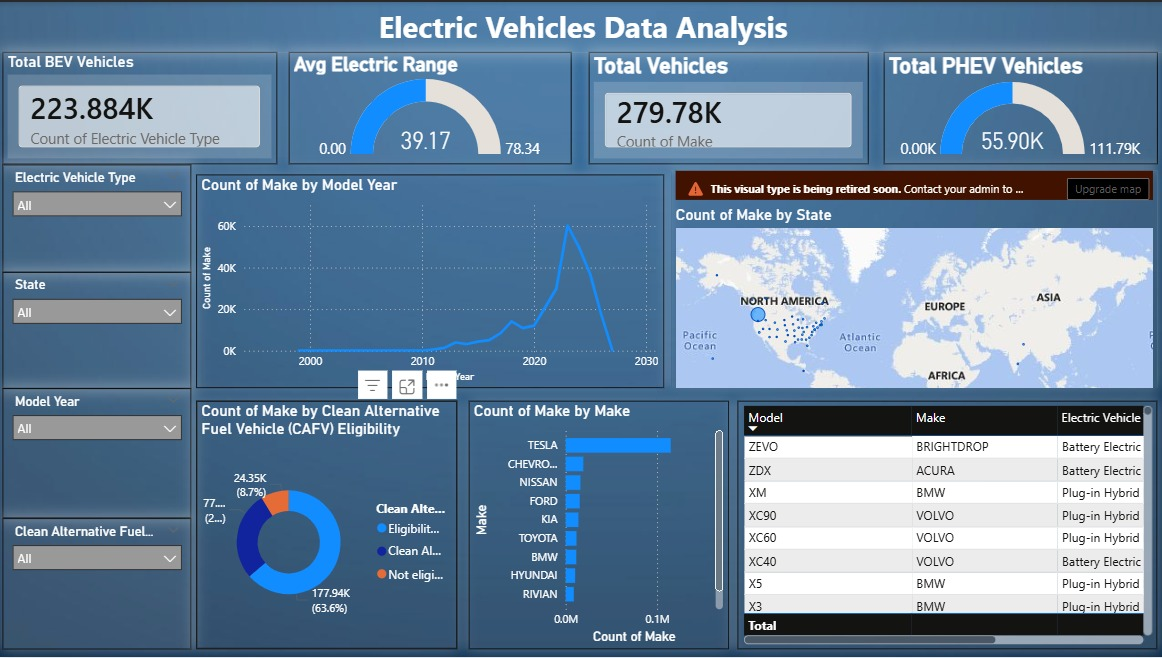

The dashboard page shown, as its layout file describes it:
{"tool":"powerbi","page":{"name":"EV Analysis Overview","canvas":[1280,720],"ordinal":0},"visuals":[{"type":"cardVisual","title":"Total Vehicles","fields":{"Data":["CountNonNull(Electric_Vehicle_Population_Data.Make)"]},"box":[646.3,54.9,307.4,123.5],"z":0},{"type":"gauge","title":"Avg Electric Range","fields":{"Y":["Avg(Electric_Vehicle_Population_Data.Electric Range)"]},"box":[317,54.9,310.1,123.5],"z":1000},{"type":"cardVisual","title":"Total BEV Vehicles","fields":{"Data":["CountNonNull(Electric_Vehicle_Population_Data.Electric Vehicle Type)"]},"box":[2.7,54.9,301.9,123.5],"z":2000},{"type":"gauge","title":"Total PHEV Vehicles","fields":{"Y":["CountNonNull(Electric_Vehicle_Population_Data.Electric Vehicle Type)"]},"box":[970.2,54.9,300.5,123.5],"z":3000},{"type":"slicer","fields":{"Values":["Electric_Vehicle_Population_Data.Electric Vehicle Type"]},"box":[2.7,178.4,207.2,118],"z":4000},{"type":"slicer","fields":{"Values":["Electric_Vehicle_Population_Data.State"]},"box":[2.7,296.4,207.2,127.6],"z":5000},{"type":"slicer","fields":{"Values":["Electric_Vehicle_Population_Data.Model Year"]},"box":[2.7,424,207.2,142.7],"z":6000},{"type":"slicer","fields":{"Values":["Electric_Vehicle_Population_Data.Clean Alternative Fuel Vehicle (CAFV) Eligibility"]},"box":[2.7,566.7,207.2,144.1],"z":7000},{"type":"lineChart","fields":{"Category":["Electric_Vehicle_Population_Data.Model Year"],"Y":["CountNonNull(Electric_Vehicle_Population_Data.Make)"]},"box":[215.4,189.4,513.2,234.6],"z":8000},{"type":"map","fields":{"Category":["Electric_Vehicle_Population_Data.State"],"Size":["CountNonNull(Electric_Vehicle_Population_Data.Make)"]},"box":[736.9,185.2,533.8,238.8],"z":9000},{"type":"clusteredBarChart","fields":{"Category":["Electric_Vehicle_Population_Data.Make"],"Y":["CountNonNull(Electric_Vehicle_Population_Data.Make)"]},"box":[514.6,437.7,285.4,273.1],"z":10000},{"type":"donutChart","fields":{"Category":["Electric_Vehicle_Population_Data.Clean Alternative Fuel Vehicle (CAFV) Eligibility"],"Y":["CountNonNull(Electric_Vehicle_Population_Data.Make)"]},"box":[215.4,437.7,286.8,273.1],"z":11000},{"type":"tableEx","fields":{"Values":["Electric_Vehicle_Population_Data.Model","Electric_Vehicle_Population_Data.Make","Electric_Vehicle_Population_Data.Electric Vehicle Type","Sum(Electric_Vehicle_Population_Data.Model Year)"]},"box":[809.6,437.7,461.1,273.1],"z":12000},{"type":"textbox","box":[0,0,1280.3,54.9],"z":13000}]}

Visuals, with their boxes in screenshot pixels (x1, y1, x2, y2), scaled from the page's 1280x720 canvas onto the 1162x658 screenshot:
"Total Vehicles" cardVisual: 587,50,866,163
"Avg Electric Range" gauge: 288,50,569,163
"Total BEV Vehicles" cardVisual: 2,50,277,163
"Total PHEV Vehicles" gauge: 881,50,1154,163
slicer - Electric_Vehicle_Population_Data.Electric Vehicle Type: 2,163,191,271
slicer - Electric_Vehicle_Population_Data.State: 2,271,191,387
slicer - Electric_Vehicle_Population_Data.Model Year: 2,387,191,518
slicer - Electric_Vehicle_Population_Data.Clean Alternative Fuel Vehicle (CAFV) Eligibility: 2,518,191,650
lineChart - Electric_Vehicle_Population_Data.Model Year x CountNonNull(Electric_Vehicle_Population_Data.Make): 196,173,661,387
map - Electric_Vehicle_Population_Data.State x CountNonNull(Electric_Vehicle_Population_Data.Make): 669,169,1154,387
clusteredBarChart - Electric_Vehicle_Population_Data.Make x CountNonNull(Electric_Vehicle_Population_Data.Make): 467,400,726,650
donutChart - Electric_Vehicle_Population_Data.Clean Alternative Fuel Vehicle (CAFV) Eligibility x CountNonNull(Electric_Vehicle_Population_Data.Make): 196,400,456,650
tableEx - Electric_Vehicle_Population_Data.Model x Electric_Vehicle_Population_Data.Make: 735,400,1154,650
textbox: 0,0,1161,50
